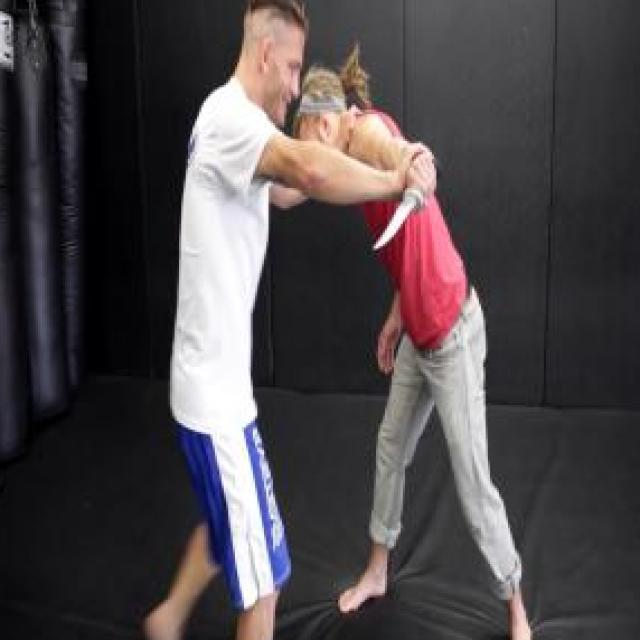knife: (367, 150, 443, 256)
